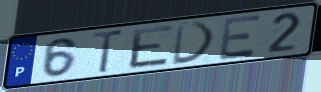2: (266, 10, 304, 55)
6: (42, 36, 82, 79)
D: (170, 20, 219, 67)
E: (217, 12, 265, 62), (128, 23, 176, 71)
T: (91, 28, 127, 75)
